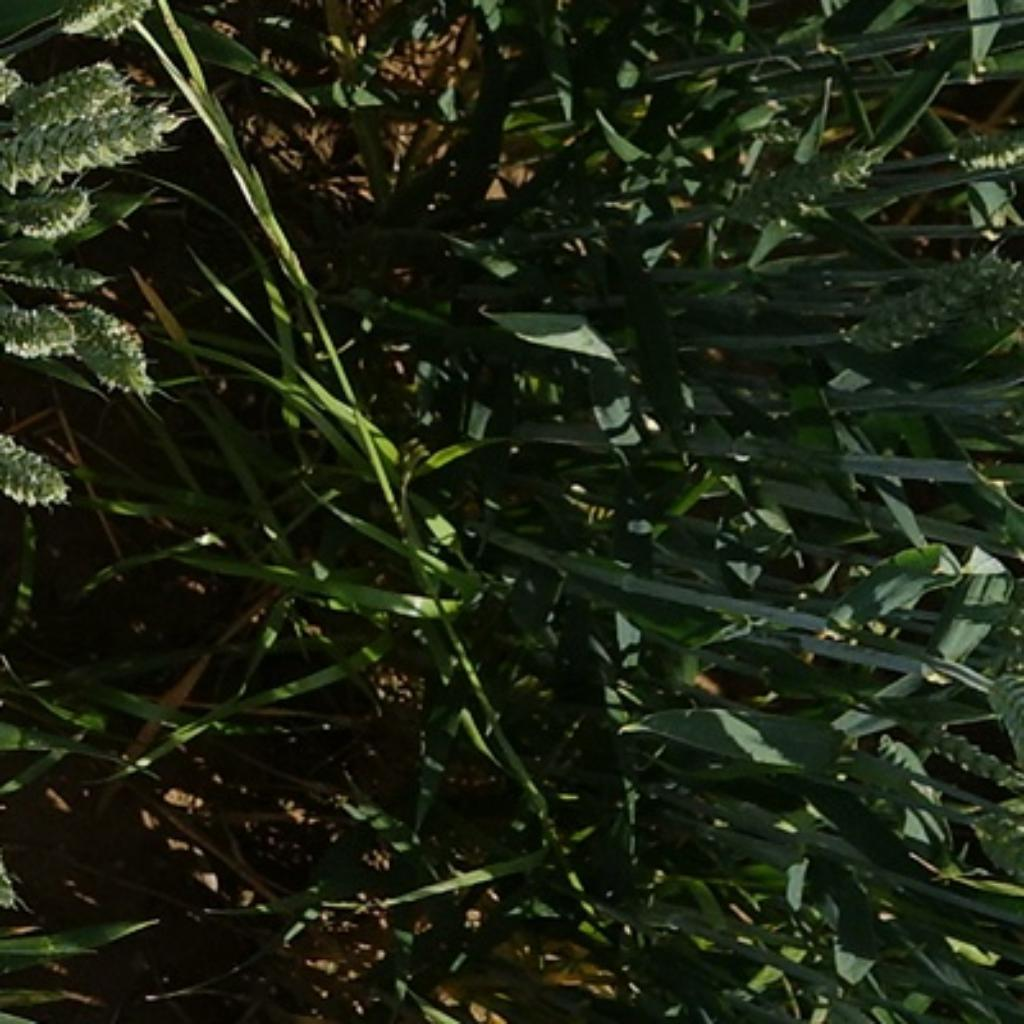0-0: (716, 115, 888, 238), (847, 246, 1004, 346), (0, 104, 188, 186), (0, 56, 136, 137), (76, 299, 163, 406), (918, 716, 1024, 796), (0, 412, 74, 509), (0, 237, 108, 303), (924, 110, 1024, 180), (0, 184, 107, 243), (977, 652, 1024, 778), (953, 249, 1022, 331), (0, 307, 84, 371), (47, 0, 161, 43)
